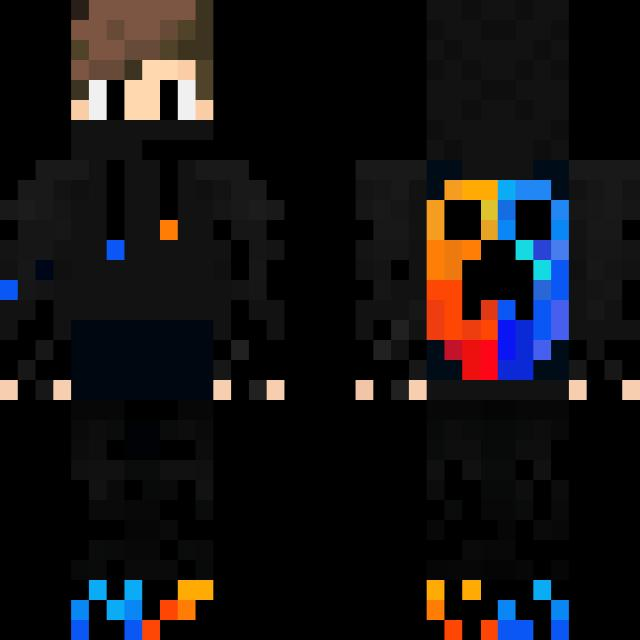Player: (352, 0, 639, 640), (0, 0, 284, 639)
